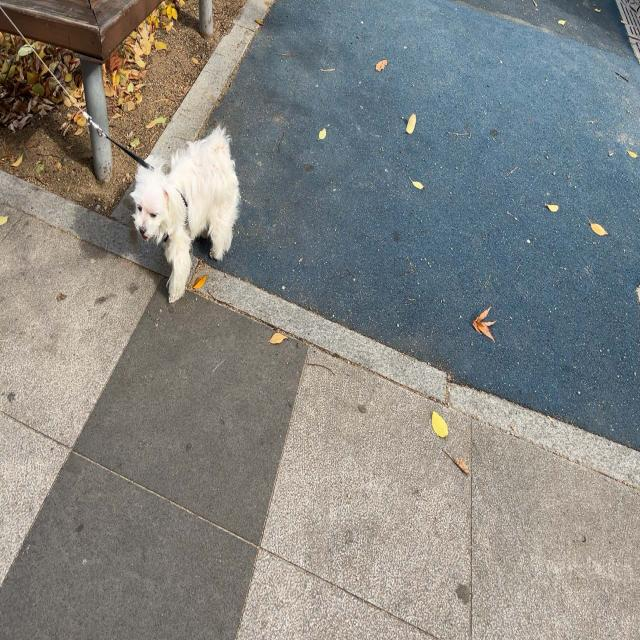Dog: (130, 120, 242, 302)
